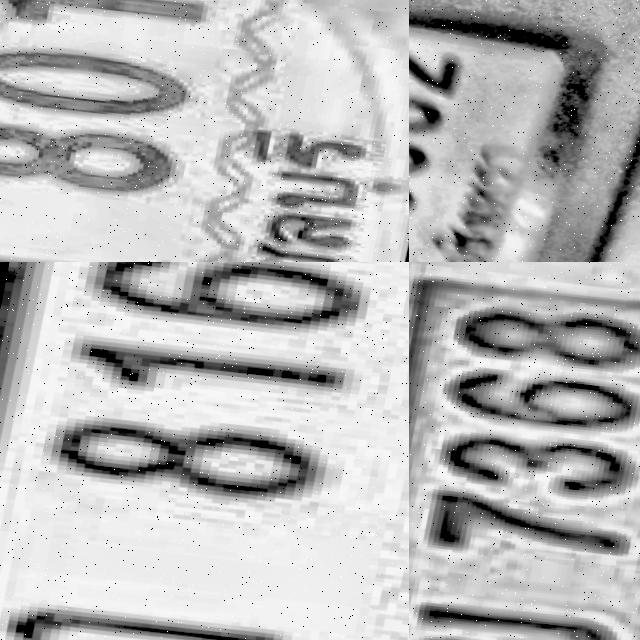license-plate: (0, 262, 409, 640), (0, 0, 409, 262), (409, 262, 640, 640), (409, 27, 566, 262)
